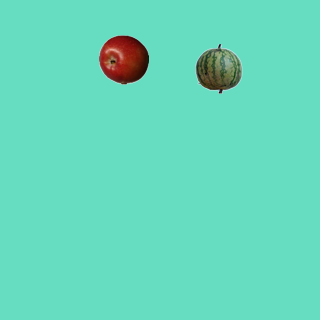Apple Braeburn: (98, 34, 148, 84)
Watermelon: (193, 43, 243, 93)
